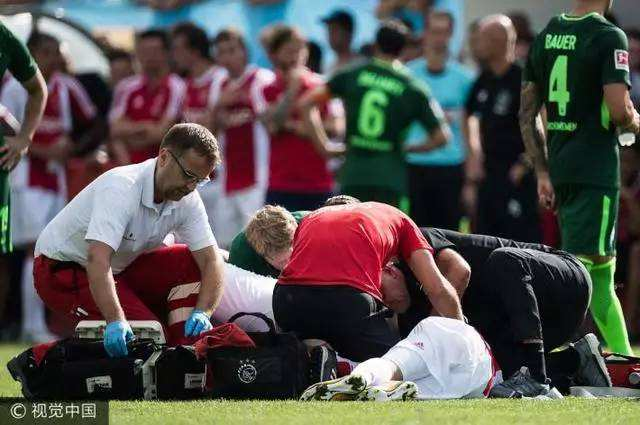10+: (9, 1, 629, 398)
down: (314, 304, 508, 407)
